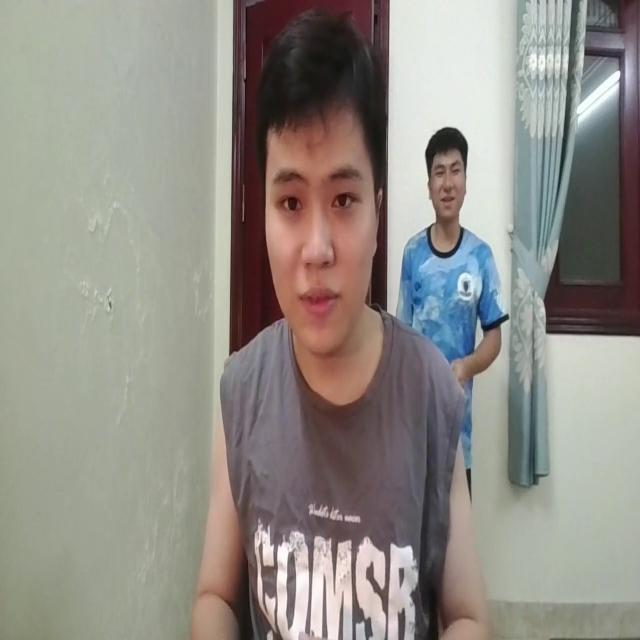extra_person: (406, 128, 501, 402)
student: (191, 12, 482, 640)
